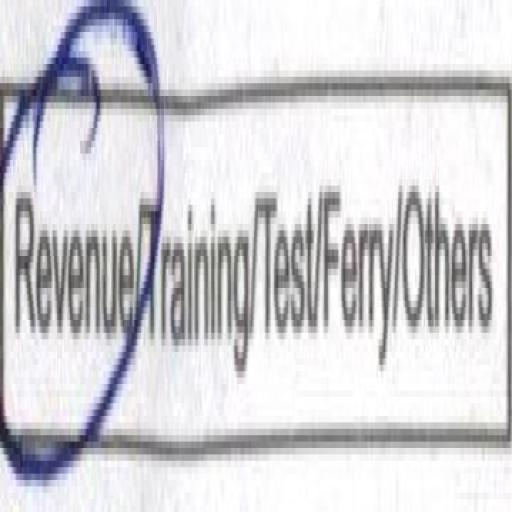check: (0, 0, 143, 495)
